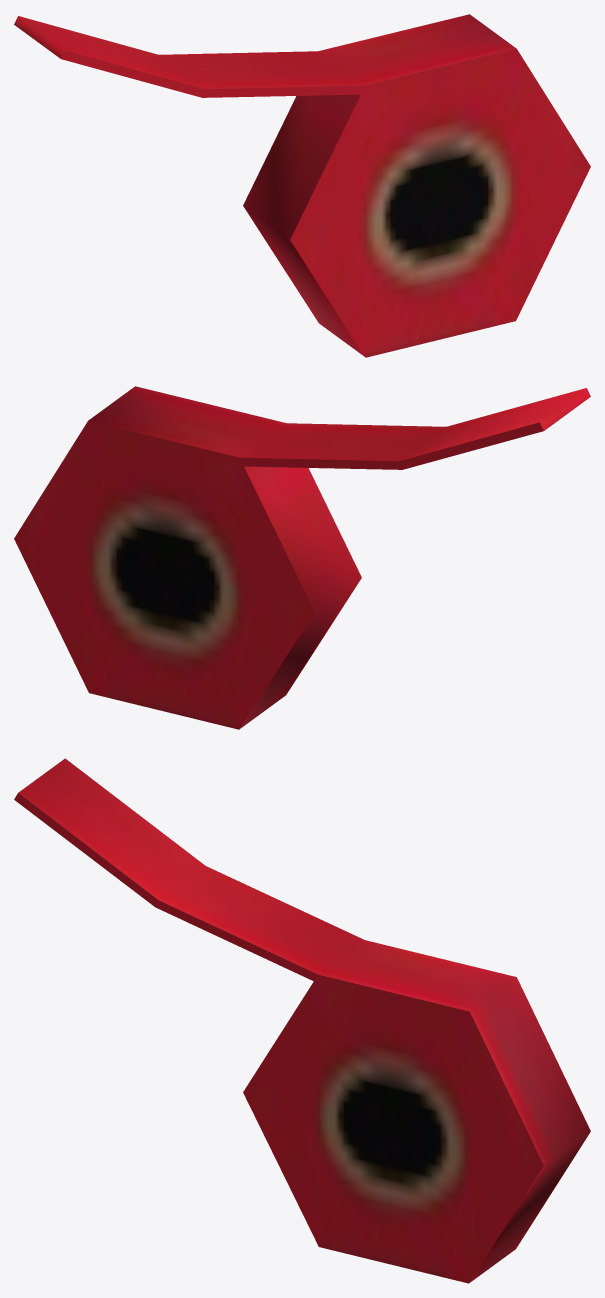
Rendered from redtape.glb.
3 renders of one model, top to bottom at view 1: azimuth 30°, elevation 25°; view 2: azimuth 150°, elevation 25°; view 3: azimuth 330°, elevation 25°, orthographic.
Visible parts, largest first — view 1: redtape; view 2: redtape; view 3: redtape.
Boxes of the visible parts, x1,y1,x2,y2 form: redtape: (14,14,590,357); redtape: (14,386,590,729); redtape: (14,758,590,1283).
Bounding box in the file's own units: 1.75 × 1.2 × 0.2692.
Materials: 1 (1 with a texture image).
